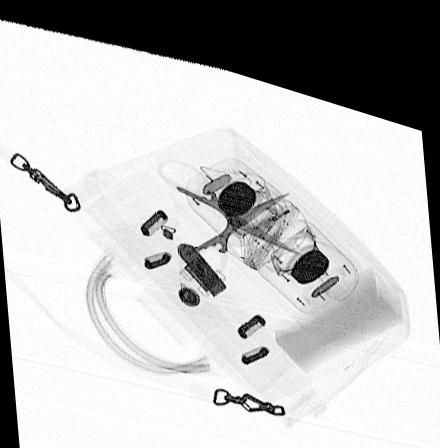Scissors: (154, 147, 301, 264)
